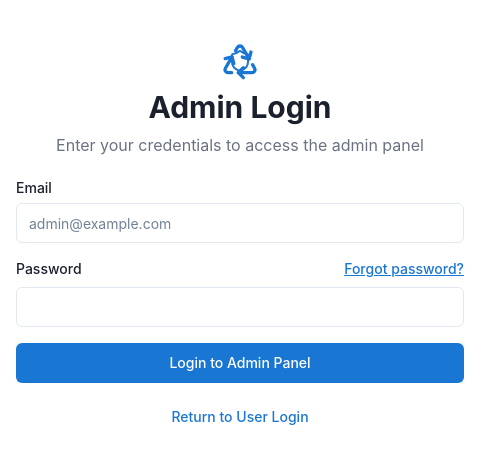
AdminLoginPage › shows validation errors if form is submitted empty
This screenshot has width=481, height=470.
Click the button "Login to Admin Panel" at (240, 363), box x1=16 y1=343 x2=464 y2=383
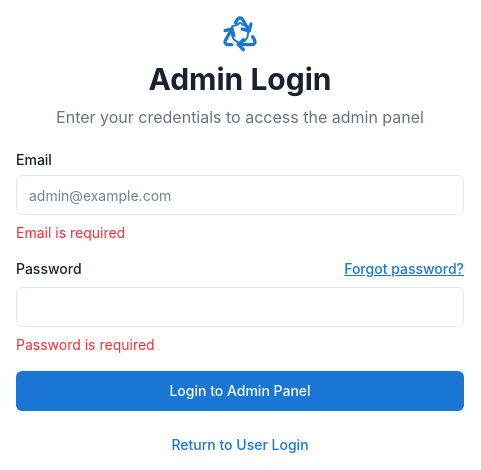
Check: the text "Email is required" is shown, box x1=16 y1=224 x2=125 y2=241
Check: the text "Password is required" is shown, box x1=16 y1=336 x2=155 y2=353
